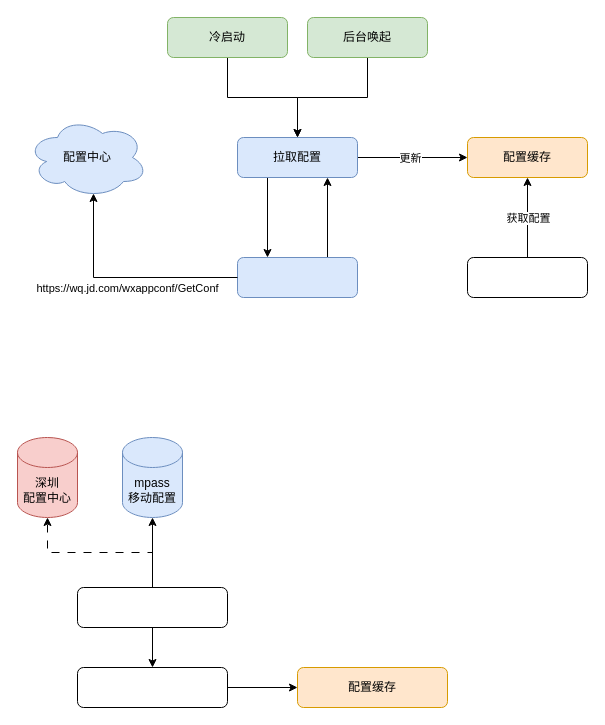
Some shapes in this 605 by 725 pixel diagram are drawn without their labels. Here are the shapes that lost their labels. From the top down, the centre of each, then its label:
At (x=297, y=277): "http request".
At (x=527, y=277): "业务逻辑".
At (x=152, y=607): "配置拉取".
At (x=152, y=687): "配置处理｜差异屏蔽".
